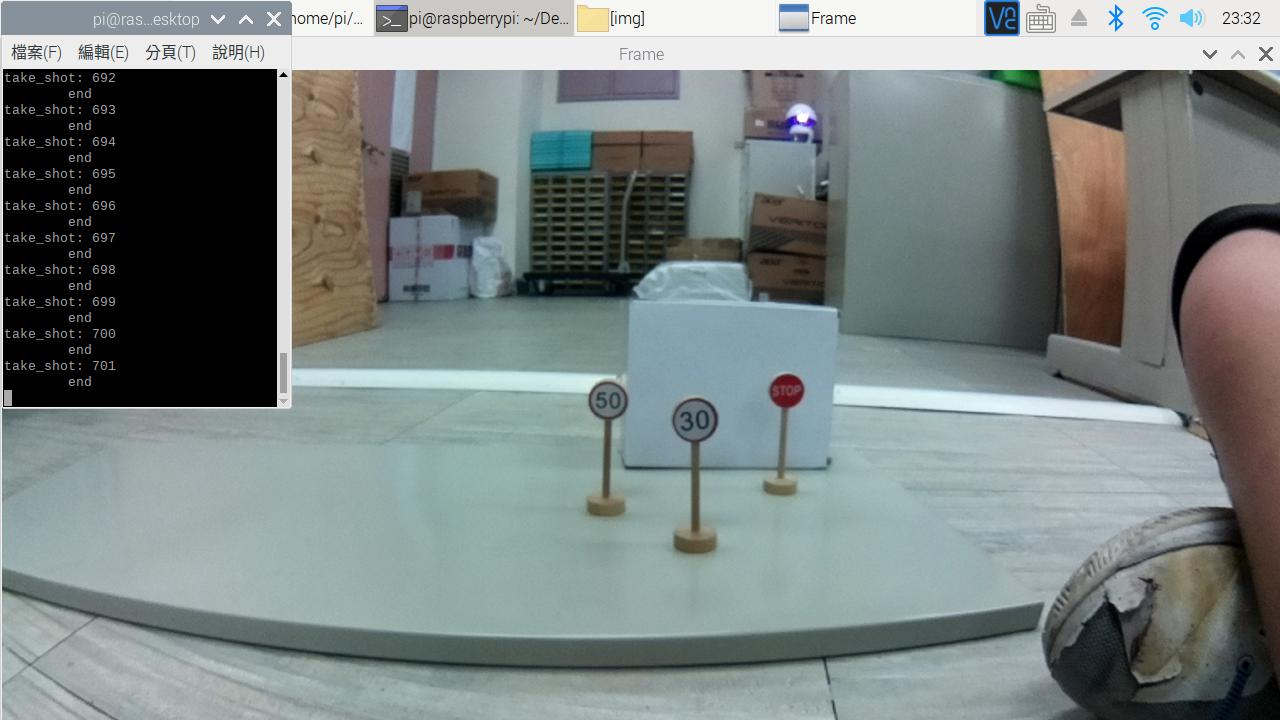Speed30: (670, 392, 727, 452)
Speed50: (579, 378, 639, 431)
Stop: (759, 364, 813, 413)
